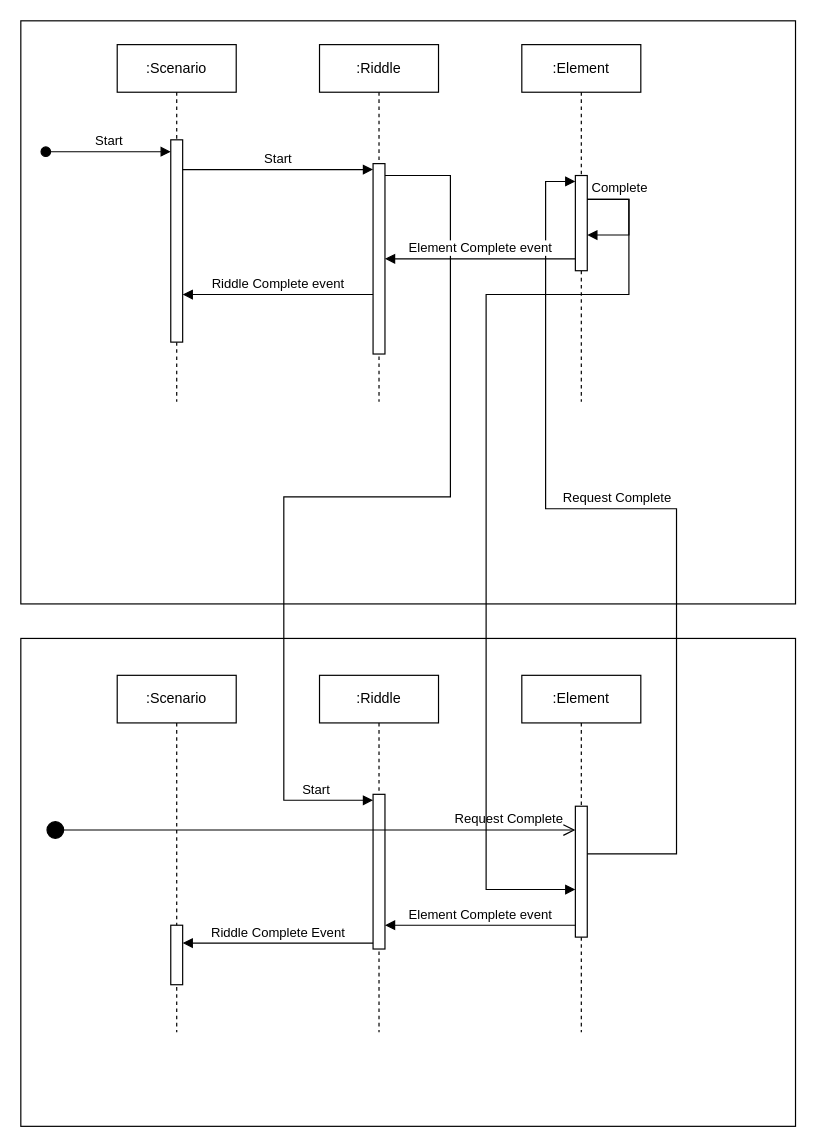
Some shapes in this 816 by 1147 pixel diagram are drawn without their labels. Each missing label, with the box of its shape:
Client: (20, 637, 796, 1126)
Server: (20, 20, 796, 604)
